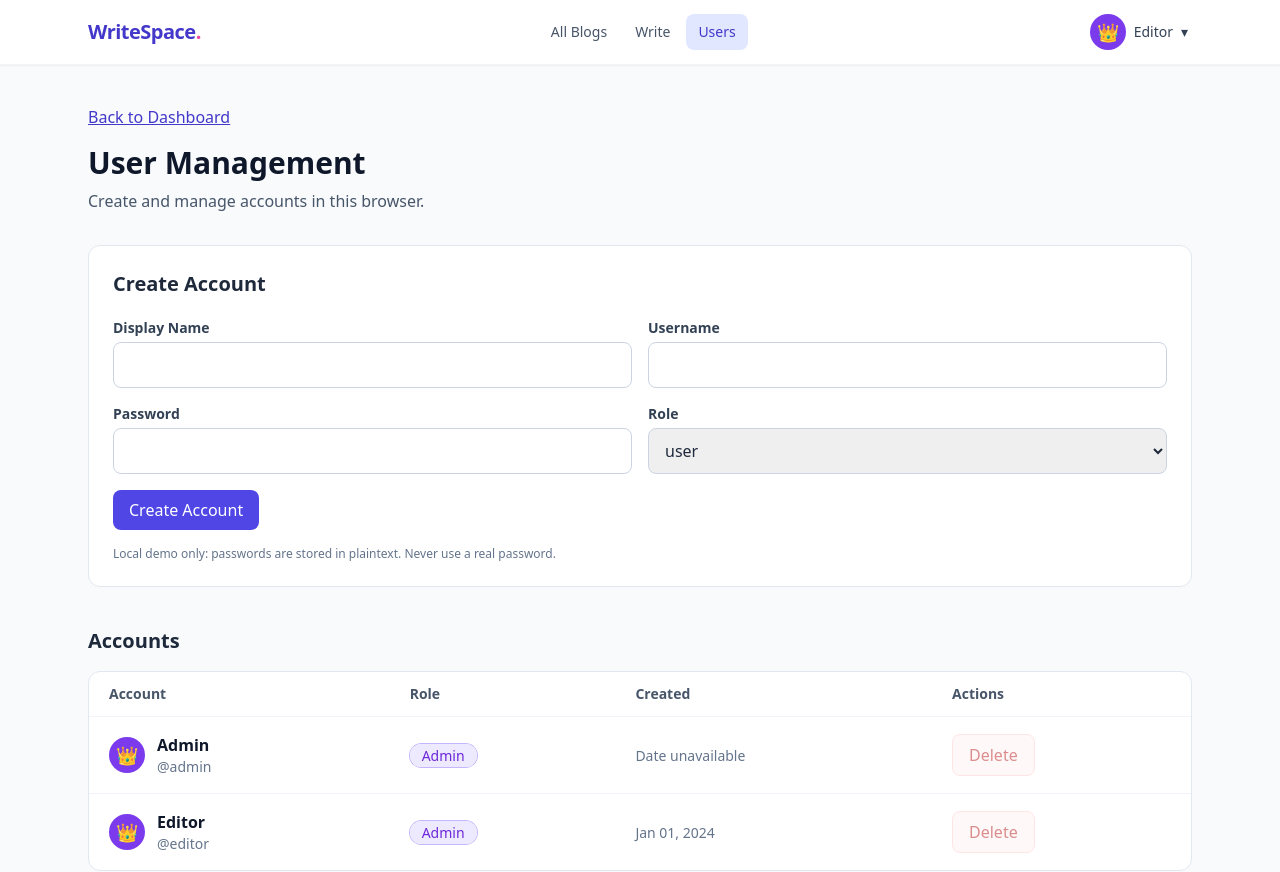
Test case: administration › disables the active administrator and reports account storage failure
The image size is (1280, 872).
Expected: the button with aria-label "Delete editor" is disabled, [952,811,1035,853]
Type "Another" into the field labelled "Display Name" at (372, 365), box [113,342,632,388]
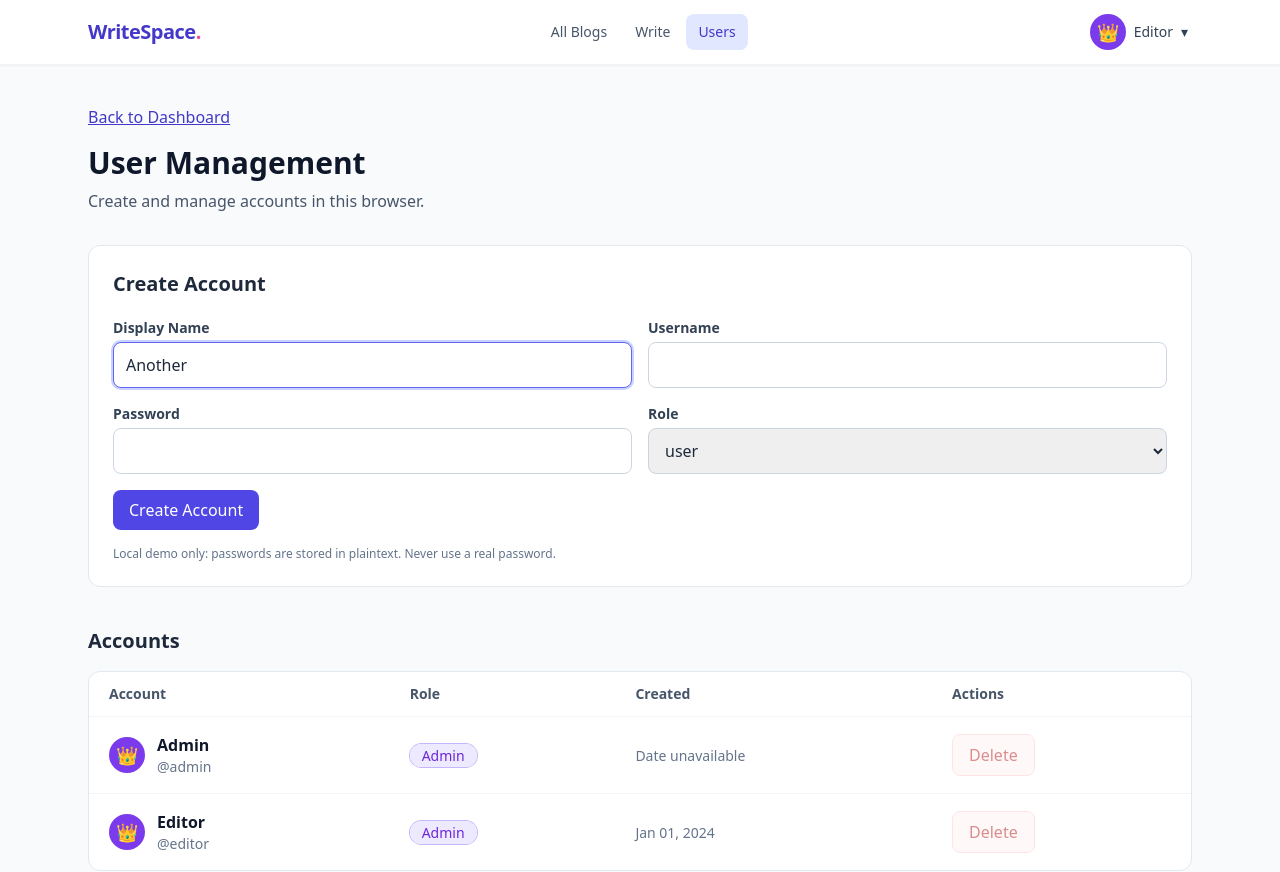
Type "another" into the field labelled "Username" at (908, 365), box [648,342,1167,388]
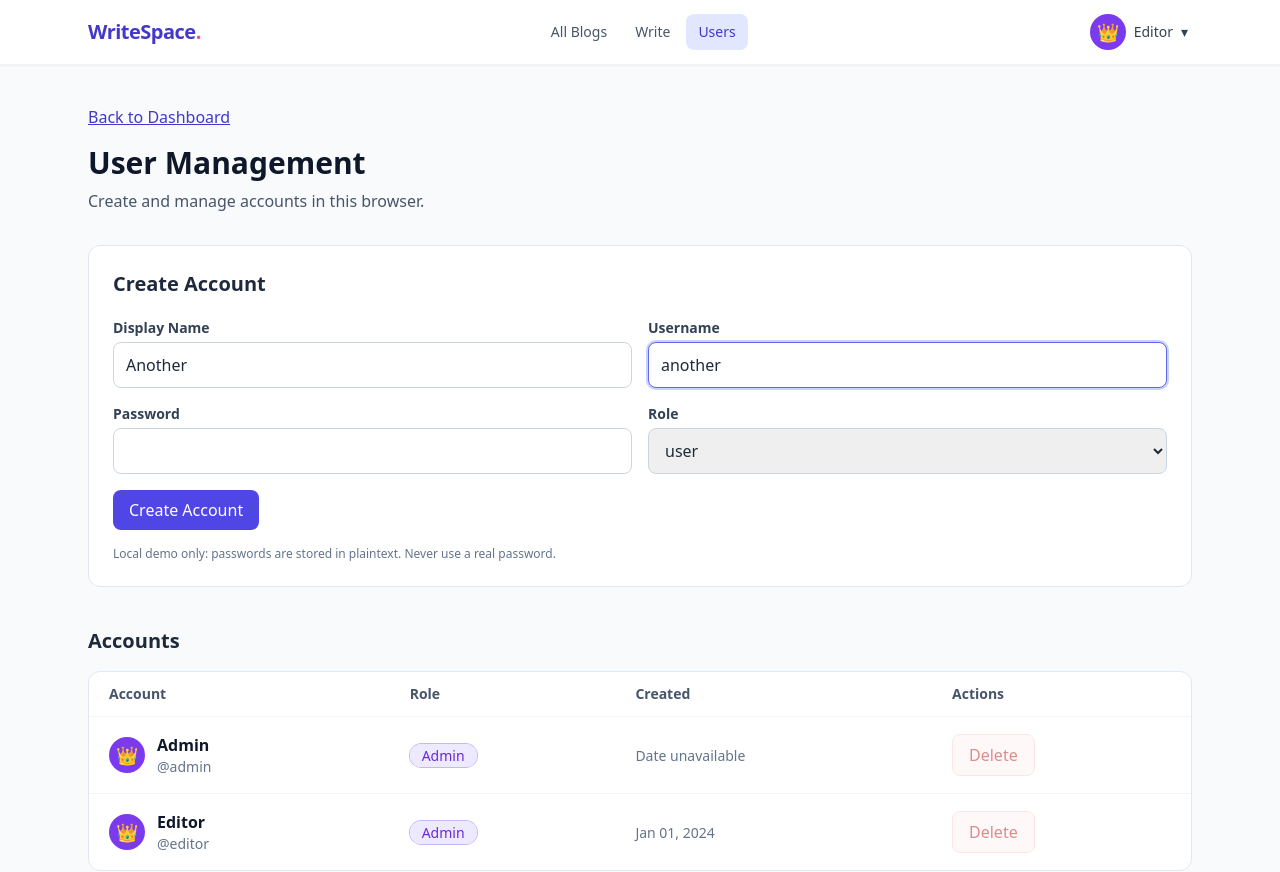
Type "demo" into the password field labelled "Password" at (372, 451), box [113,428,632,474]
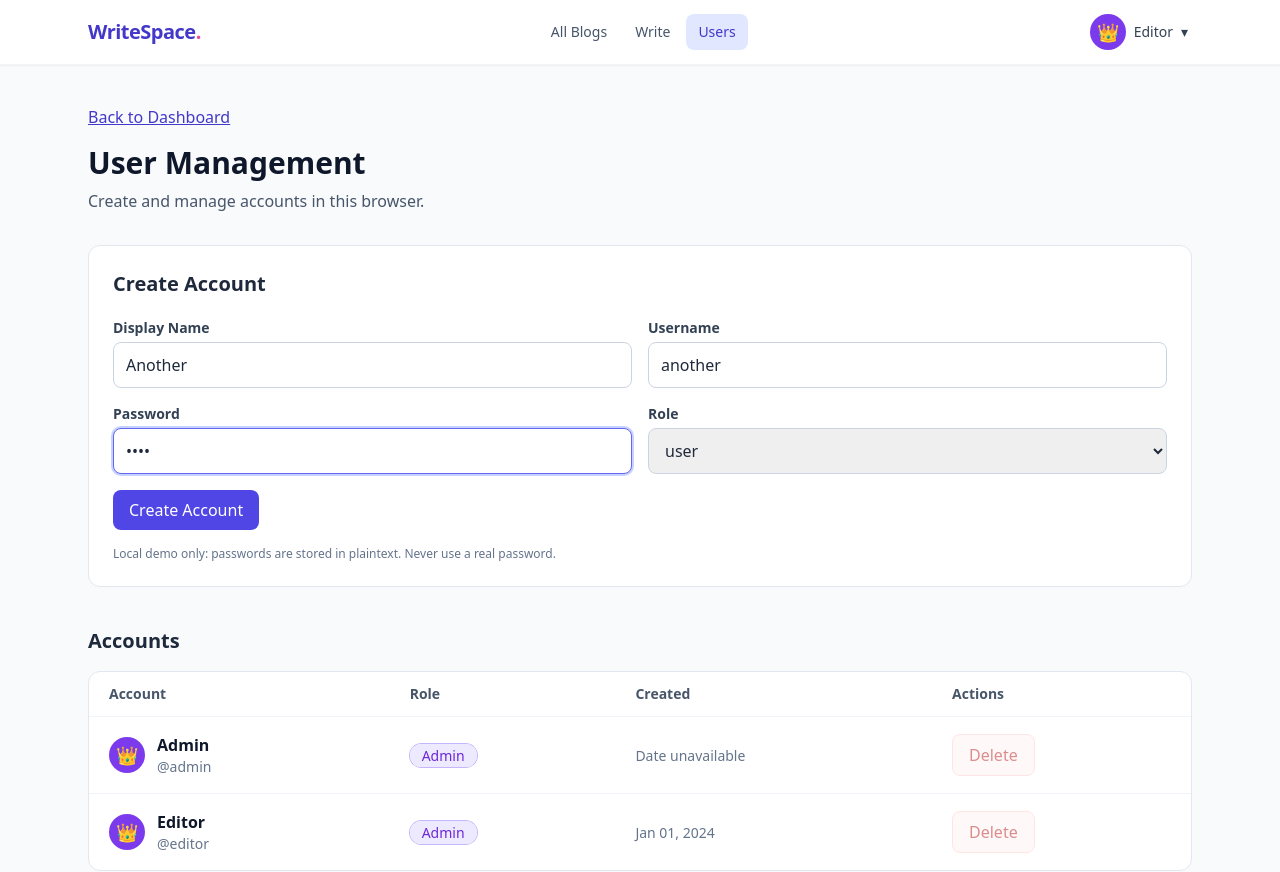
Click the button "Create Account" at (186, 510), box [113,490,259,530]
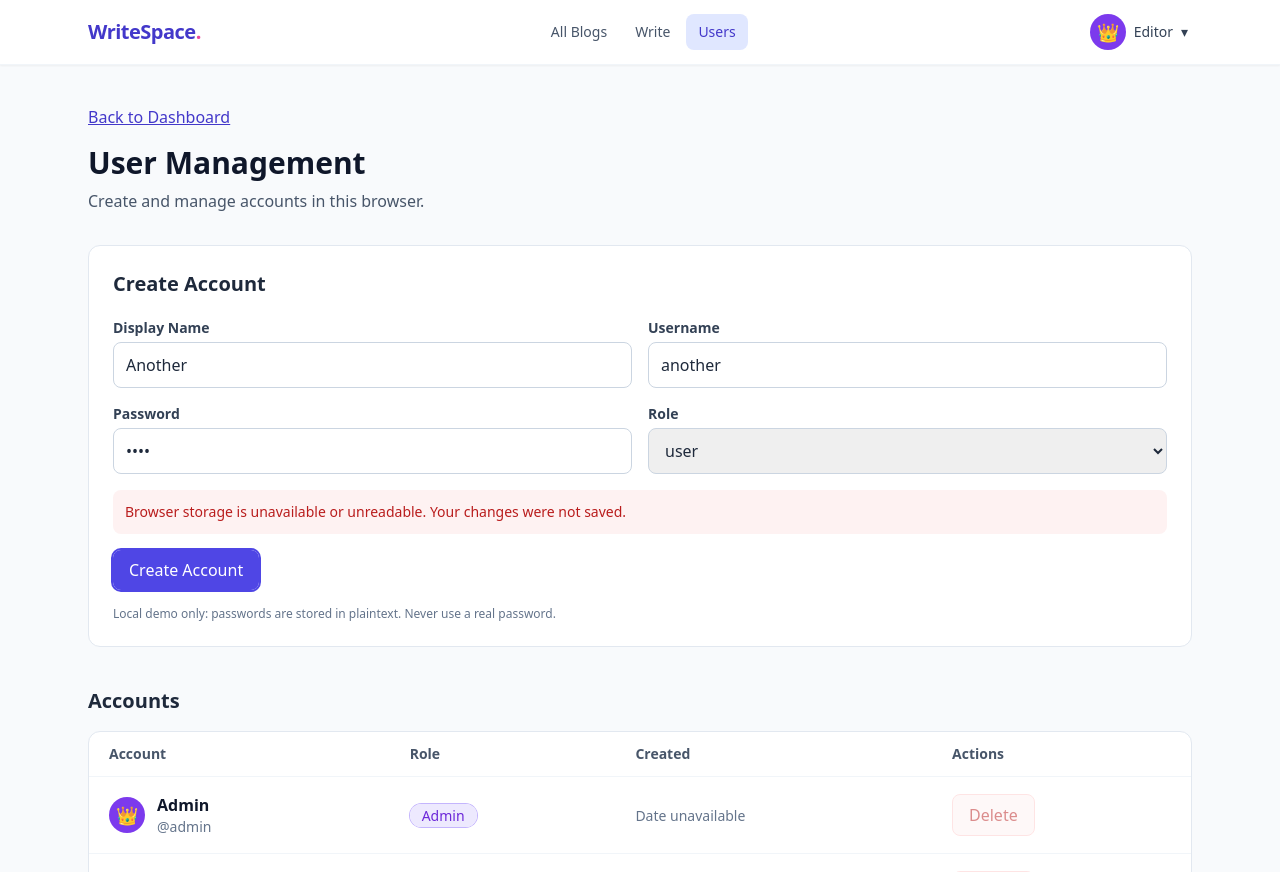
Result: the message shows "storage" at [125,502,626,521]
